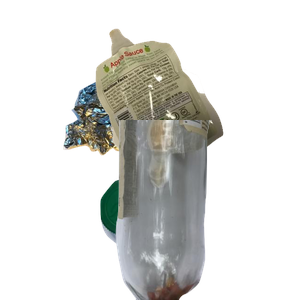glass: (113, 120, 300, 300)
metal: (61, 54, 225, 202)
plastic: (98, 176, 266, 300)
trash: (93, 26, 300, 200)
